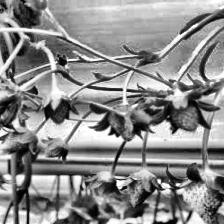Powdery Mildew Fruit: (181, 177, 224, 224), (126, 174, 158, 207)
